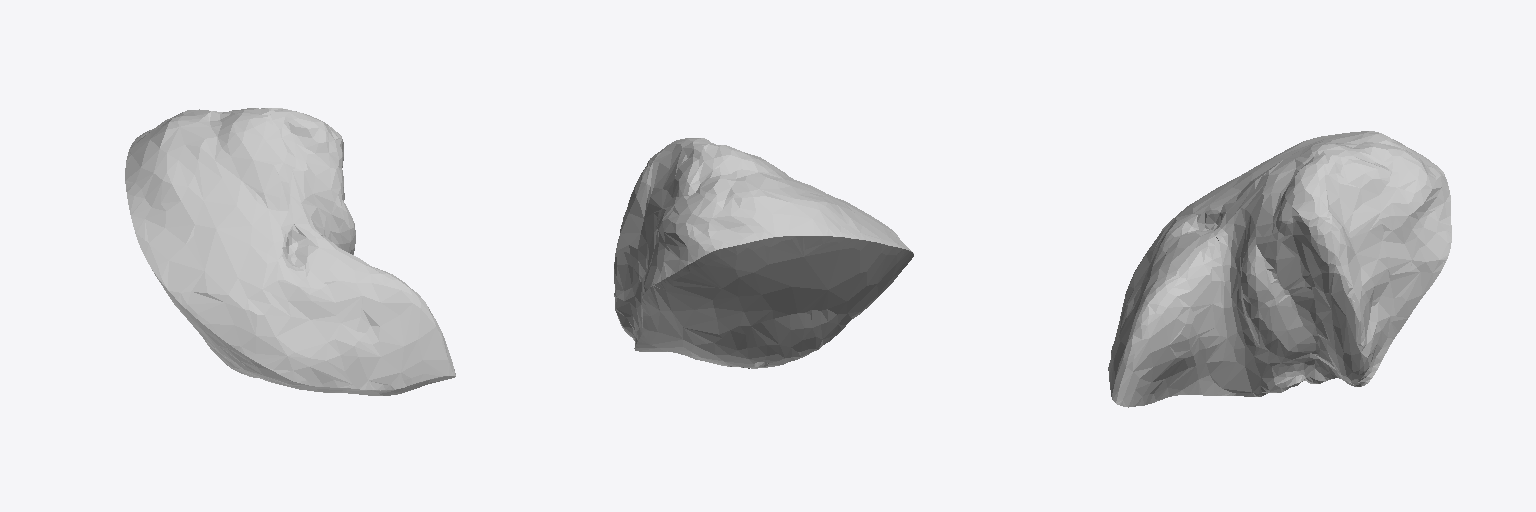
3 views of the same model, side by side, from view 1: azimuth 30°, elevation 25°; view 2: azimuth 150°, elevation 25°; view 3: azimuth 270°, elevation 25° (orthographic).
Parts seen in each view (by area): view 1: Polygonal_Model_11_Triangles_0; view 2: Polygonal_Model_11_Triangles_0; view 3: Polygonal_Model_11_Triangles_0.
Boxes of the visible parts, box(x1,y1,x2,y2) form: Polygonal_Model_11_Triangles_0: box(125, 108, 455, 395); Polygonal_Model_11_Triangles_0: box(614, 138, 913, 368); Polygonal_Model_11_Triangles_0: box(1108, 131, 1451, 407).
Bounding box in the file's own units: 3.92 × 3.77 × 4.91.